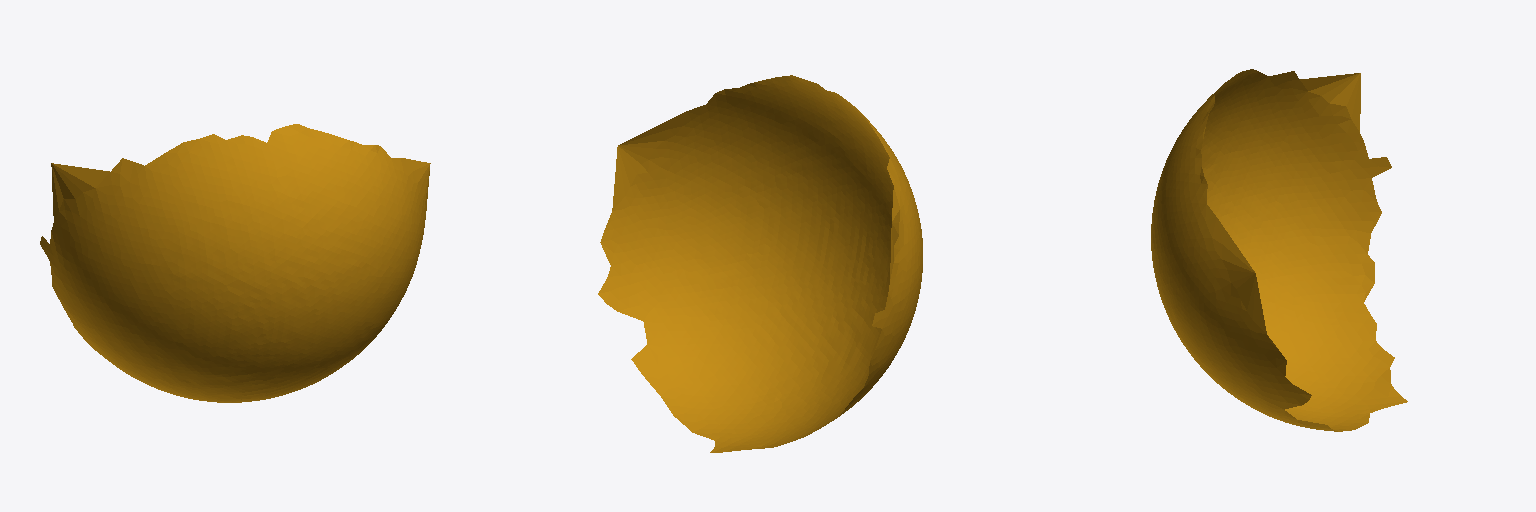
The model's file is CameraFocus_P18.000001.obj.
The picture shows the model from 3 angles: view 1: azimuth 30°, elevation 25°; view 2: azimuth 150°, elevation 25°; view 3: azimuth 270°, elevation 25°; orthographic projection.
Visible parts, largest first — view 1: CameraFocus_P18.000001; view 2: CameraFocus_P18.000001; view 3: CameraFocus_P18.000001.
Part boxes in pixels (left/top/right/bottom): CameraFocus_P18.000001: left=40, top=124, right=430, bottom=402; CameraFocus_P18.000001: left=598, top=75, right=922, bottom=452; CameraFocus_P18.000001: left=1151, top=69, right=1407, bottom=431.
Bounding box in the file's own units: 155 × 139 × 105.